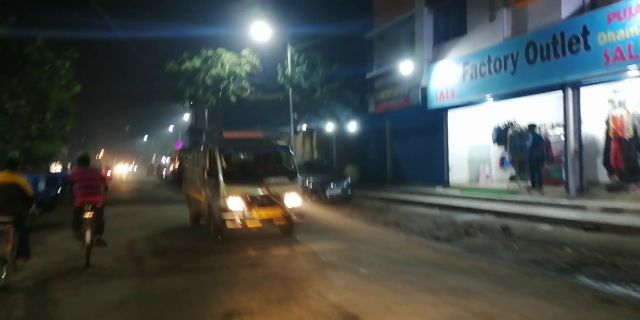Car: (297, 159, 359, 208)
Cycle: (64, 150, 110, 274)
Minitruck: (186, 128, 306, 238)
